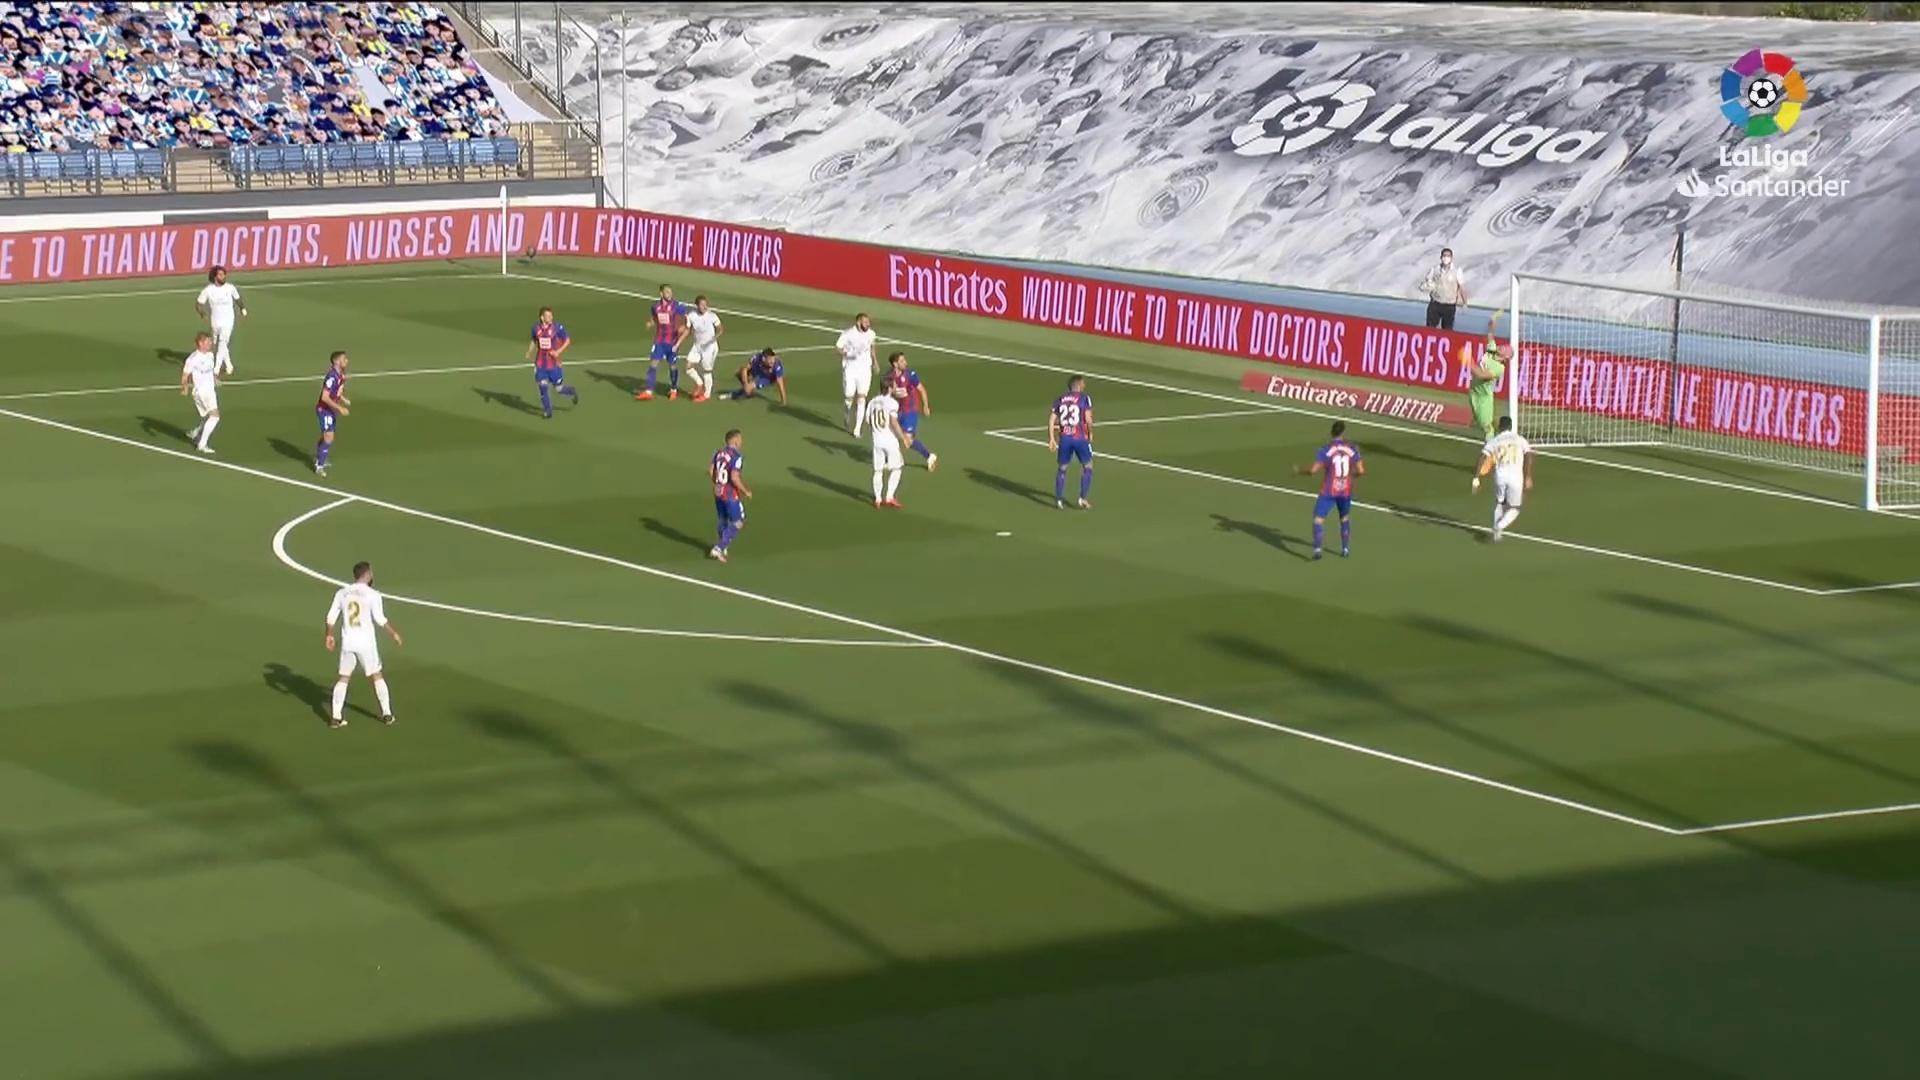goalkeeper: (1453, 302, 1518, 474)
player: (323, 555, 405, 734), (1287, 417, 1368, 565), (1466, 411, 1539, 549), (1043, 371, 1100, 516), (878, 350, 943, 476), (193, 262, 254, 385), (702, 428, 755, 569), (861, 374, 912, 513), (177, 326, 230, 459), (524, 303, 583, 422), (631, 281, 687, 405), (830, 309, 880, 447), (669, 291, 725, 408), (715, 340, 798, 414), (312, 342, 355, 482)
